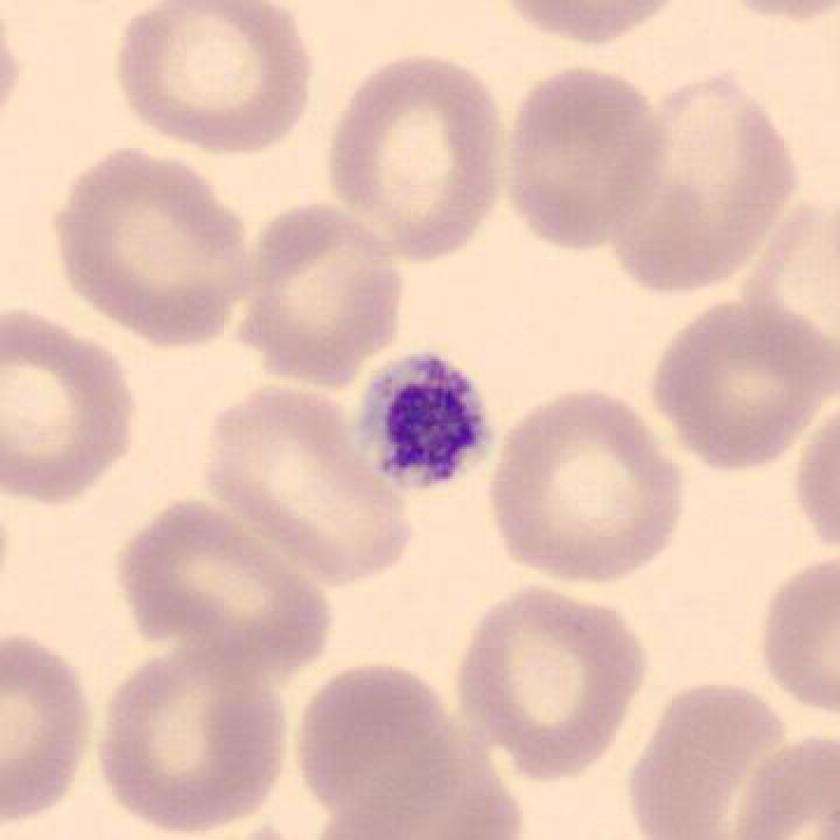platelets: (351, 348, 500, 503)
